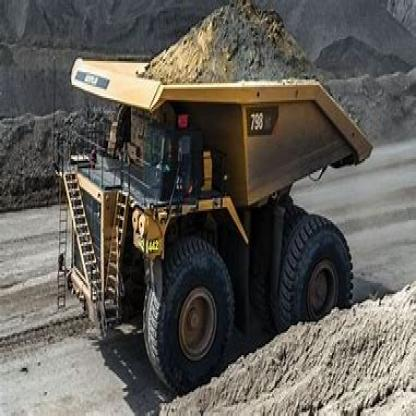dump_truck: (38, 7, 363, 383)
